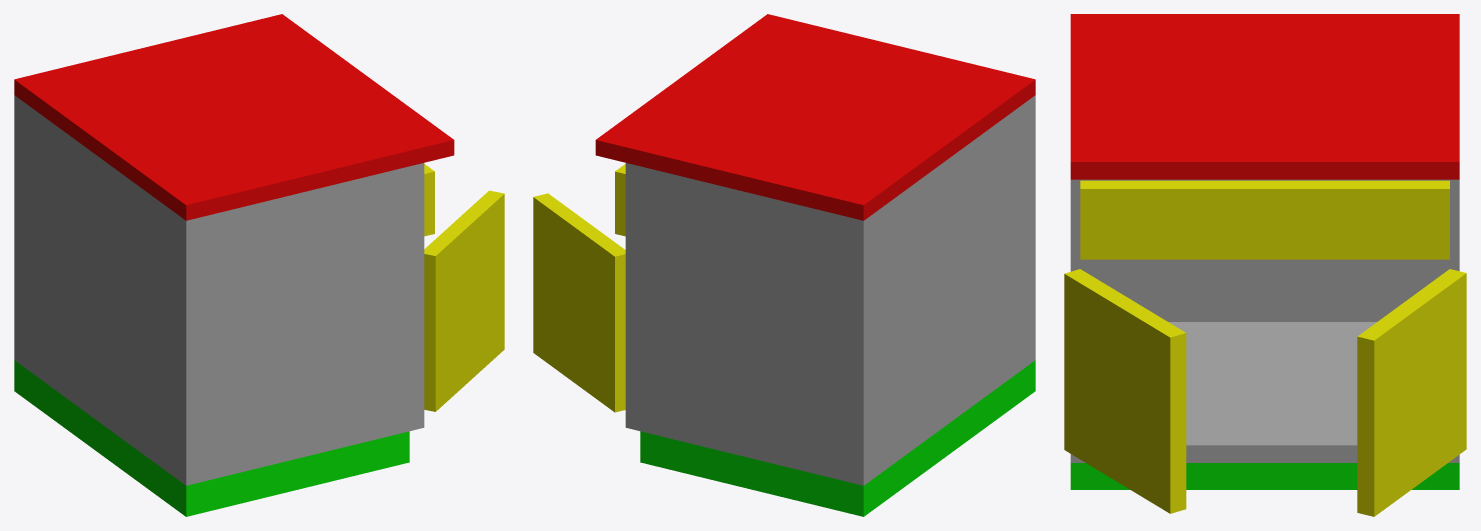
File: SM_Cabinet_Base_Open.fbx
The picture shows the model from 3 angles, left to right: view 1: azimuth 30°, elevation 25°; view 2: azimuth 150°, elevation 25°; view 3: azimuth 270°, elevation 25°; orthographic projection. The views are drawn at different scales.
Visible parts, largest first — view 1: SM_Cabinet_Base_Open; view 2: SM_Cabinet_Base_Open; view 3: SM_Cabinet_Base_Open.
Boxes of the visible parts, left/top/right/bottom form: SM_Cabinet_Base_Open: left=14, top=14, right=504, bottom=516; SM_Cabinet_Base_Open: left=533, top=14, right=1035, bottom=516; SM_Cabinet_Base_Open: left=1064, top=14, right=1466, bottom=516.
Size of what is drawn, in the model's own units: 124 by 100 by 103.
